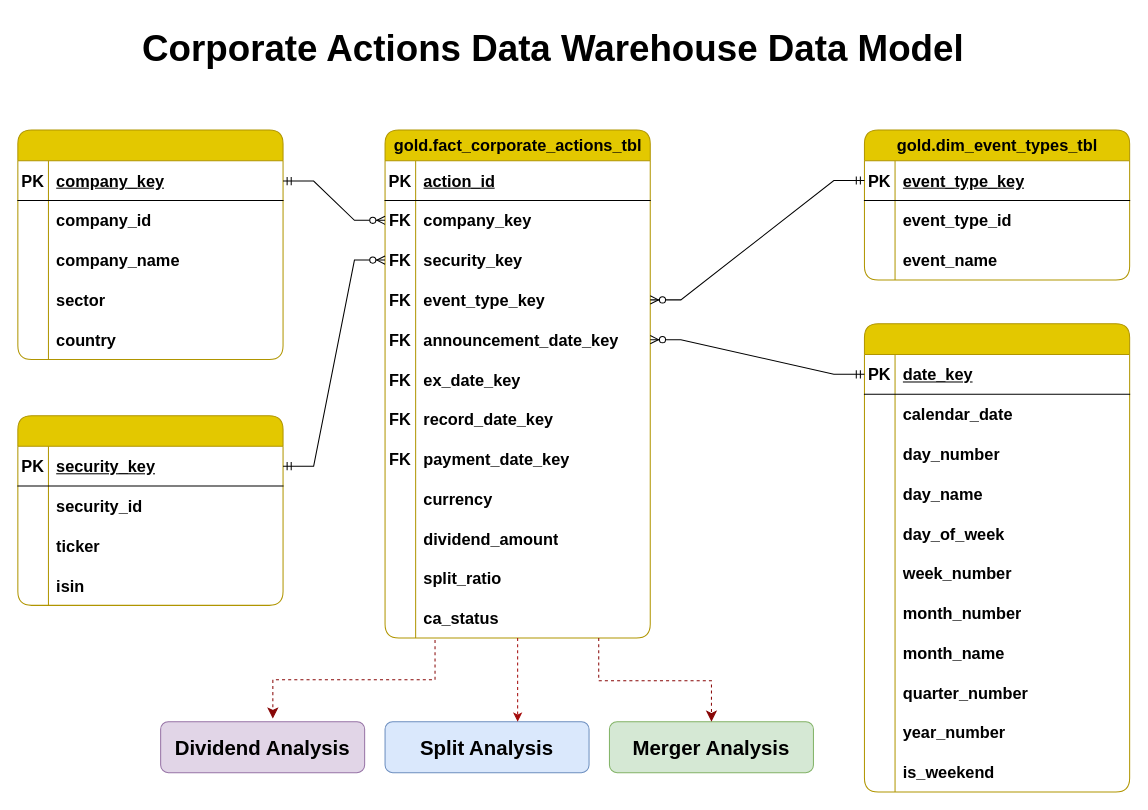
This 1148x810 diagram has some shape labels left out. Each missing label, with the box of its shape:
gold.dim_companies_tbl: (17, 129, 283, 360)
gold.dim_dates_tbl: (863, 323, 1130, 792)
gold.dim_securities_tbl: (17, 415, 283, 605)
